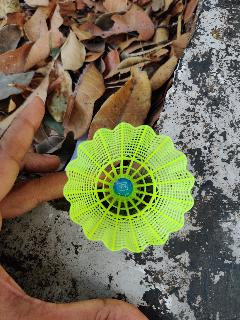shuttlecock: (61, 125, 193, 251)
